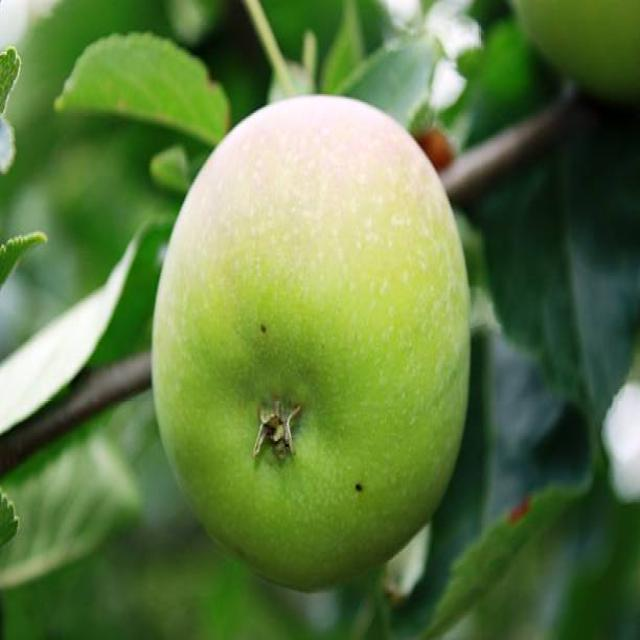Unripe: (148, 93, 473, 592)
